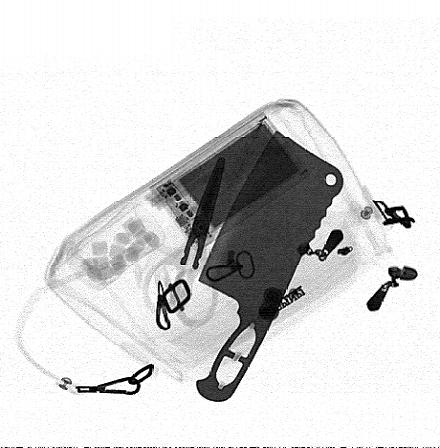Knife: (195, 128, 346, 401)
Powerbank: (148, 109, 311, 253)
Scissors: (140, 155, 229, 330)
